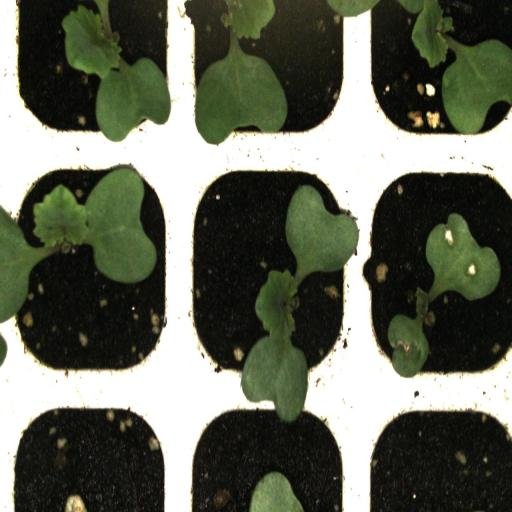seedling: (178, 152, 360, 400), (2, 152, 176, 392), (359, 150, 512, 396), (6, 0, 175, 153), (361, 0, 512, 152)
